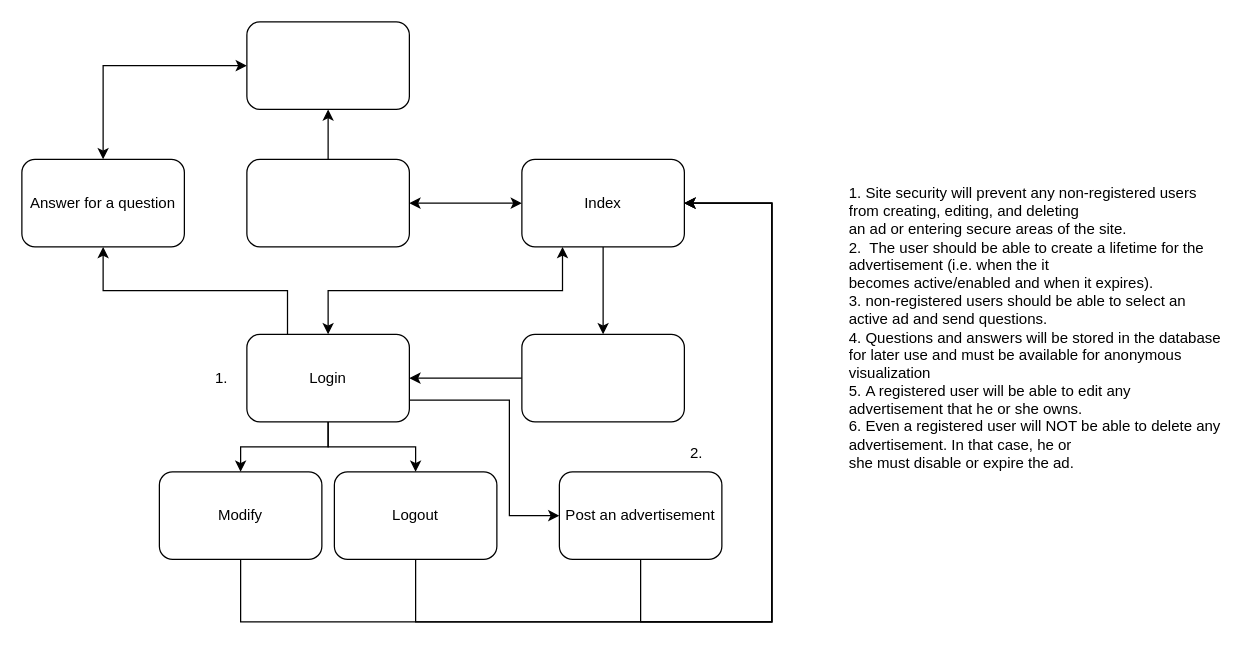
The diagram is 1244 pixels wide and 654 high, and some of its shapes have lost their labels. Each missing label, with the box of its shape:
Register: (521, 333, 684, 422)
Send question: (246, 21, 409, 109)
Specific ad: (246, 158, 409, 247)
